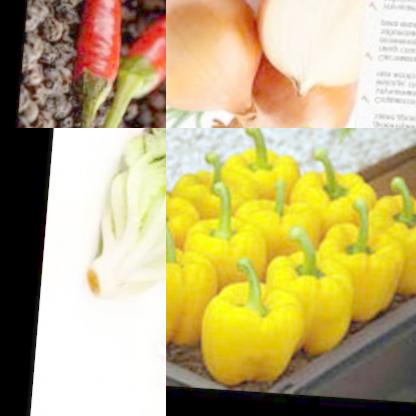bell pepper: (204, 274, 311, 389), (262, 242, 365, 352), (323, 208, 414, 317), (184, 208, 275, 298), (166, 242, 226, 363), (237, 187, 329, 258), (295, 159, 380, 227), (368, 181, 416, 290), (179, 157, 261, 220), (225, 134, 308, 193), (166, 180, 207, 257)
hot pepper: (57, 0, 143, 128), (101, 0, 166, 128)
onion: (166, 0, 276, 123), (210, 51, 379, 128), (256, 0, 383, 101)
salad: (83, 128, 166, 312)
